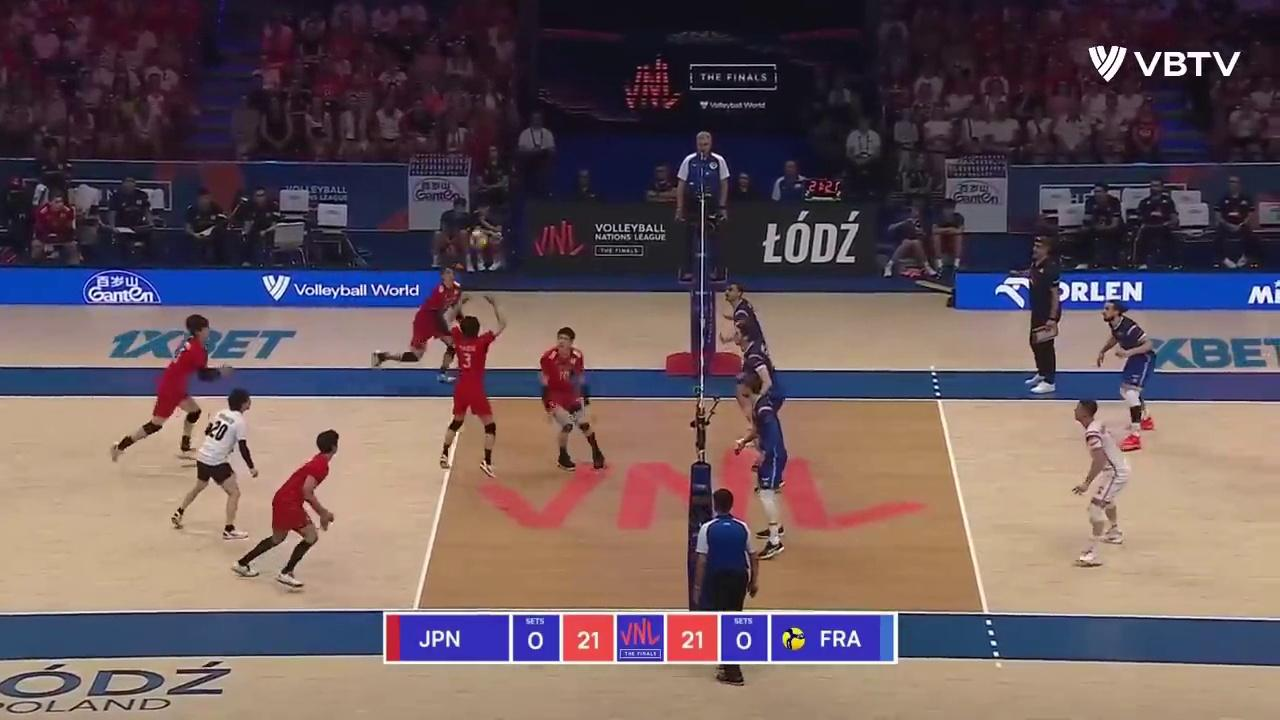ball: (469, 229, 487, 250)
